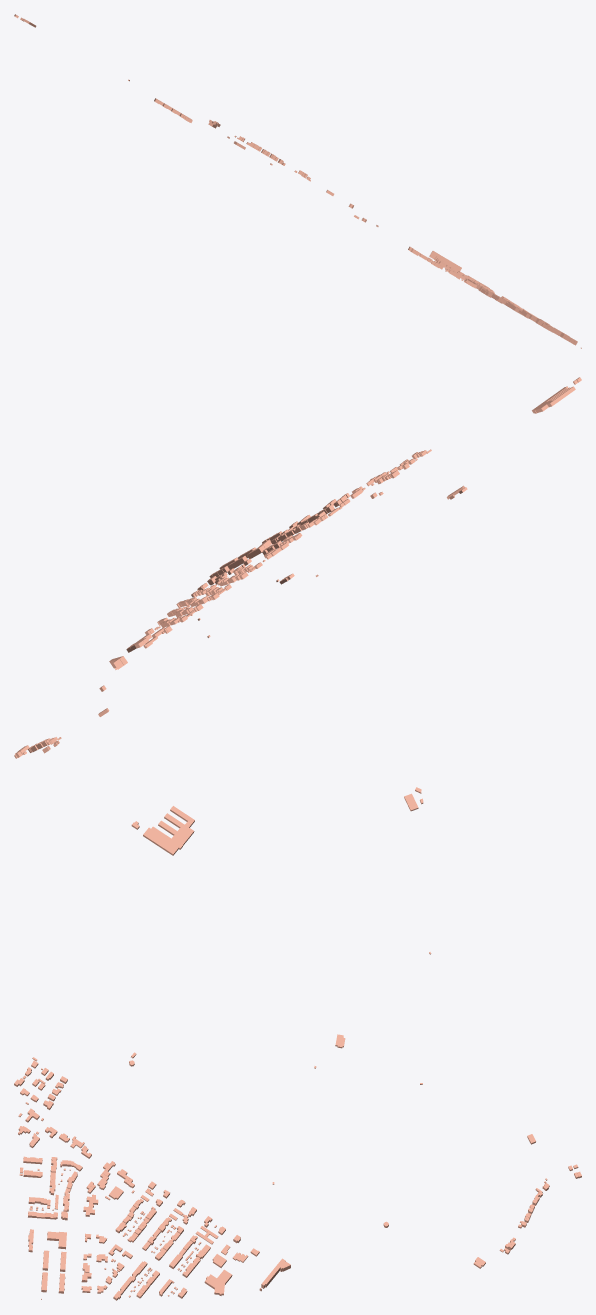
3 views of the same model, one above another, from view 1: azimuth 30°, elevation 25°; view 2: azimuth 150°, elevation 25°; view 3: azimuth 270°, elevation 25° (orthographic). The views are drawn at different scales.
Size of the model in its own units: 1005 by 742 by 1208.
